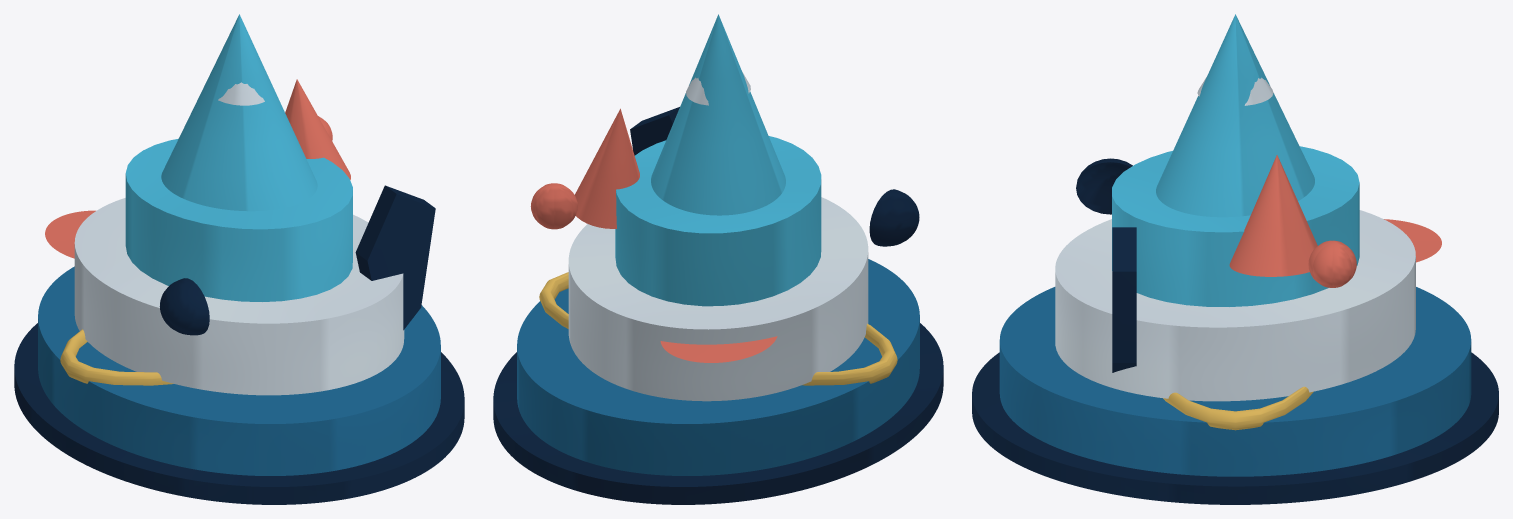
File: 1095_古文观止_华山前洞.glb
3 views of the same model, side by side, from view 1: azimuth 30°, elevation 25°; view 2: azimuth 150°, elevation 25°; view 3: azimuth 270°, elevation 25° (orthographic). The views are drawn at different scales.
Parts seen in each view (by area): view 1: card_1095; view 2: card_1095; view 3: card_1095.
Part boxes in pixels (x1,y1,x2,y2): card_1095: [14, 14, 464, 504]; card_1095: [493, 14, 943, 504]; card_1095: [972, 14, 1498, 504].
Bounding box in the file's own units: 1 × 1 × 1.2.
